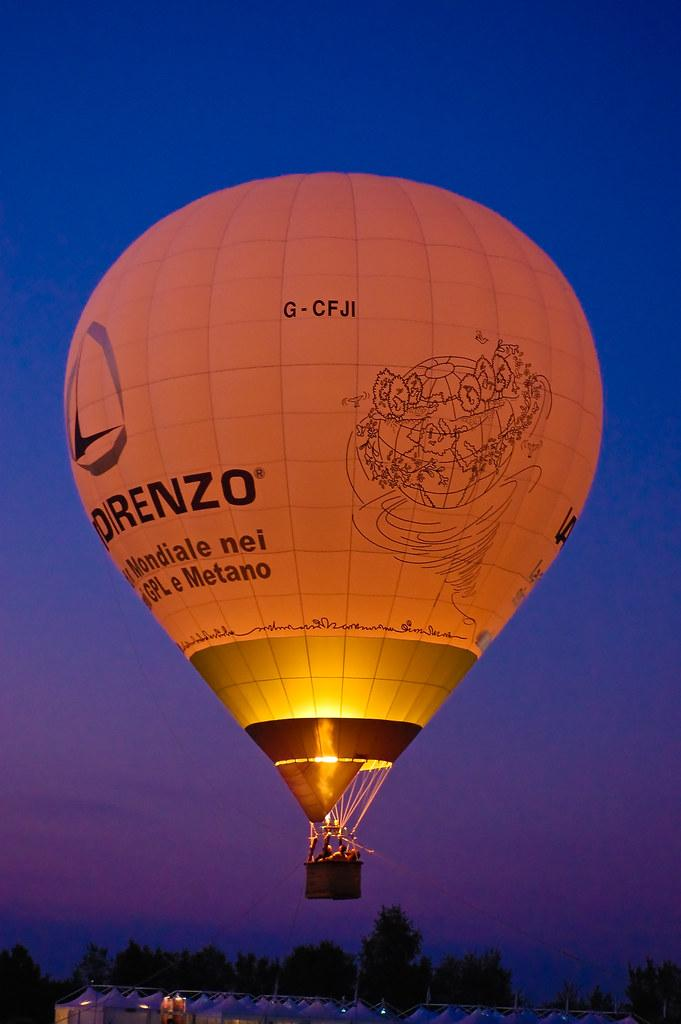balloon: (63, 169, 605, 899)
